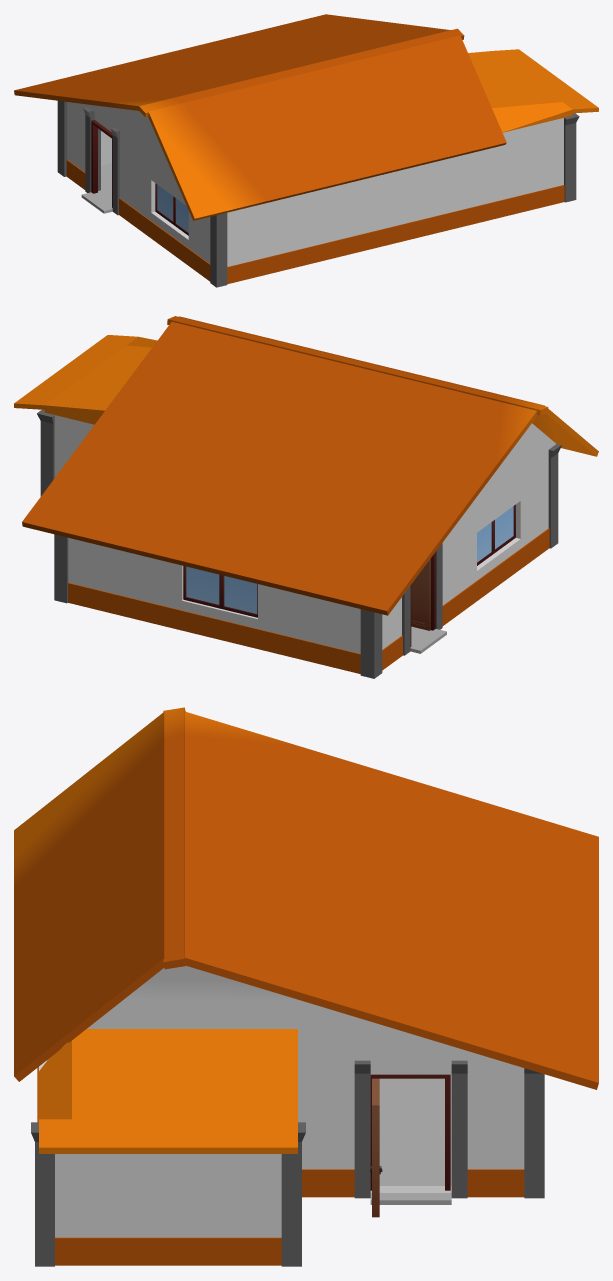
File: SM_Lao_House_One_Floor.fbx
3 renders of one model, top to bottom at view 1: azimuth 30°, elevation 25°; view 2: azimuth 150°, elevation 25°; view 3: azimuth 270°, elevation 25°, orthographic. The views are drawn at different scales.
Parts seen in each view (by area): view 1: Roof, Main_Floor; view 2: Roof, Main_Floor, Front_Door; view 3: Roof, Main_Floor, Back_Door.
Part boxes in pixels (x1=…): Roof: x1=14, y1=14, x2=506, y2=220; Main_Floor: x1=57, y1=49, x2=598, y2=287; Roof: x1=22, y1=316, x2=598, y2=615; Main_Floor: x1=14, y1=335, x2=561, y2=678; Front_Door: x1=411, y1=559, x2=430, y2=630; Roof: x1=14, y1=707, x2=598, y2=1089; Main_Floor: x1=31, y1=1029, x2=544, y2=1266; Back_Door: x1=369, y1=1078, x2=382, y2=1217.
Size of the model in its own units: 9.57 by 3.43 by 7.23.
